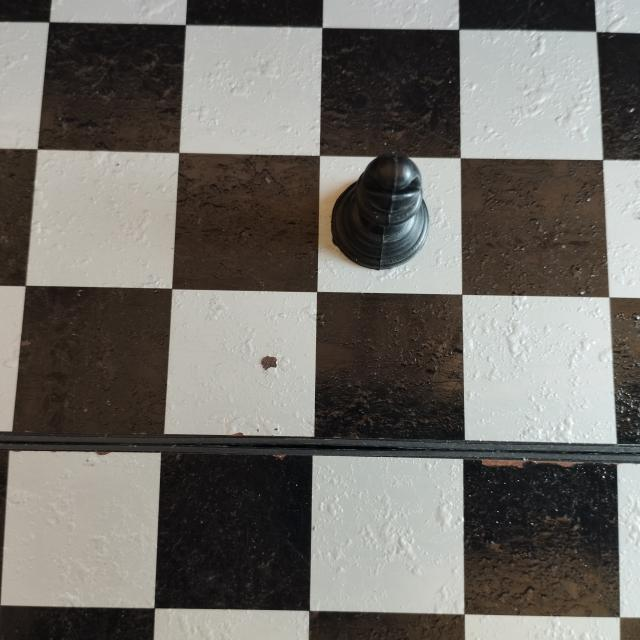Black Bishop: (324, 138, 434, 280)
